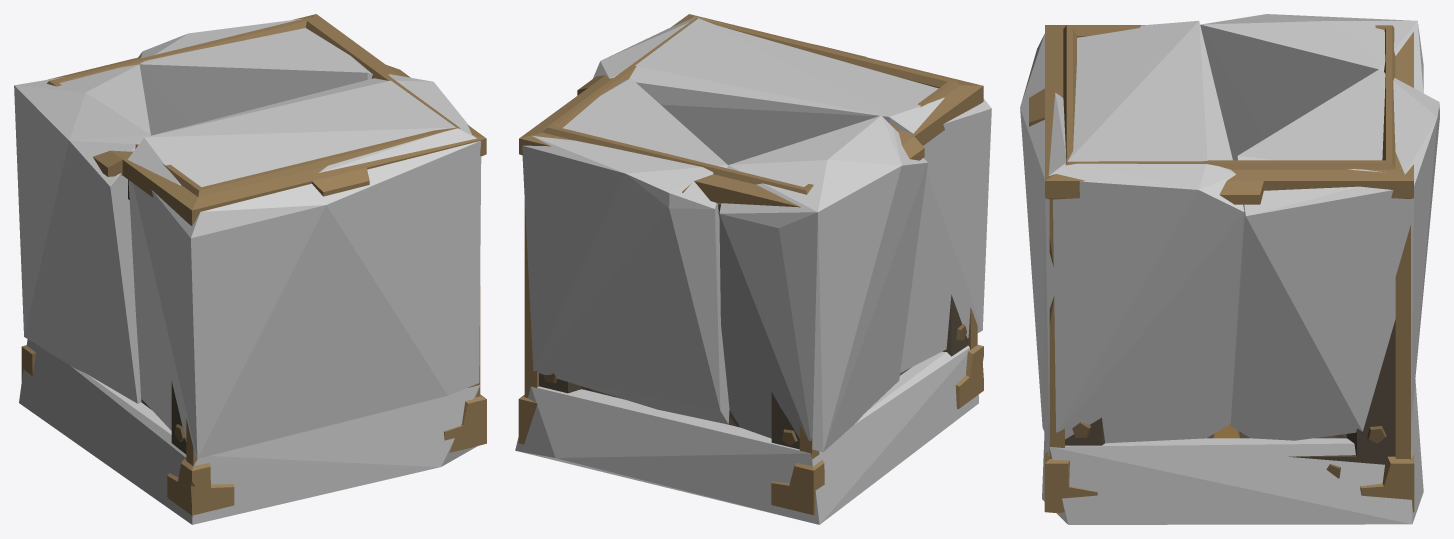
File: SM_Prop_Crate_01.fbx
3 views of the same model, side by side, from view 1: azimuth 30°, elevation 25°; view 2: azimuth 150°, elevation 25°; view 3: azimuth 270°, elevation 25° (orthographic). The views are drawn at different scales.
Parts seen in each view (by area): view 1: SM_Prop_Crate_01_ConvexHulls, SM_Prop_Crate_01; view 2: SM_Prop_Crate_01_ConvexHulls, SM_Prop_Crate_01; view 3: SM_Prop_Crate_01_ConvexHulls, SM_Prop_Crate_01.
Part boxes in pixels (left/top/right/bottom): SM_Prop_Crate_01_ConvexHulls: left=14, top=17, right=481, bottom=524; SM_Prop_Crate_01: left=21, top=14, right=486, bottom=515; SM_Prop_Crate_01_ConvexHulls: left=515, top=16, right=991, bottom=524; SM_Prop_Crate_01: left=518, top=14, right=983, bottom=515; SM_Prop_Crate_01_ConvexHulls: left=1020, top=14, right=1439, bottom=524; SM_Prop_Crate_01: left=1029, top=25, right=1414, bottom=512.
Bounding box in the file's own units: 98.93 × 98.65 × 93.57.
Materials: 3 (2 with a texture image).
